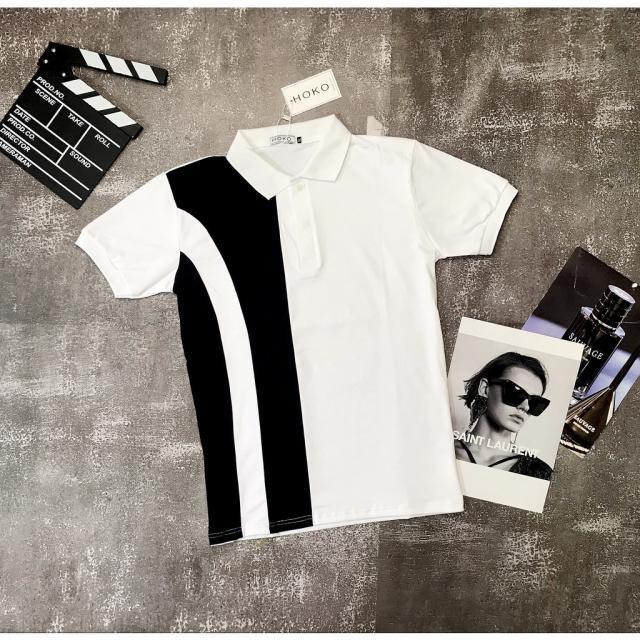Shirt: (78, 120, 519, 548)
